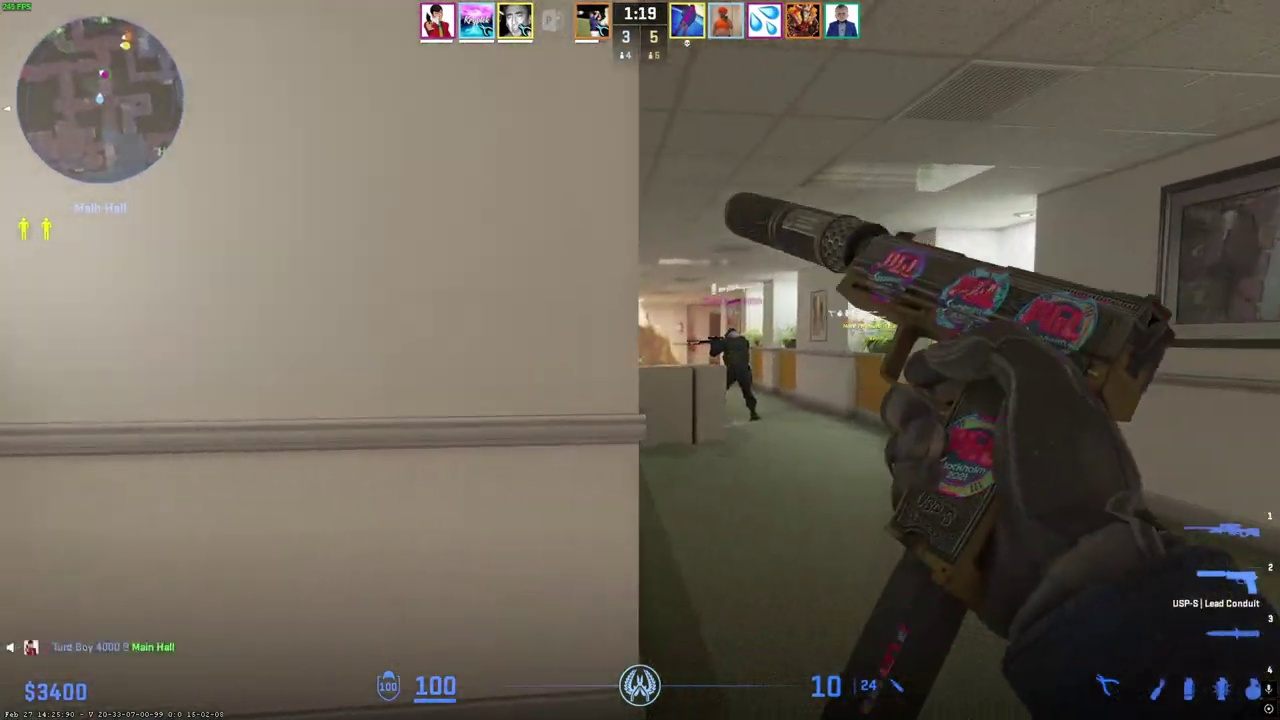CT: (717, 327, 759, 421)
